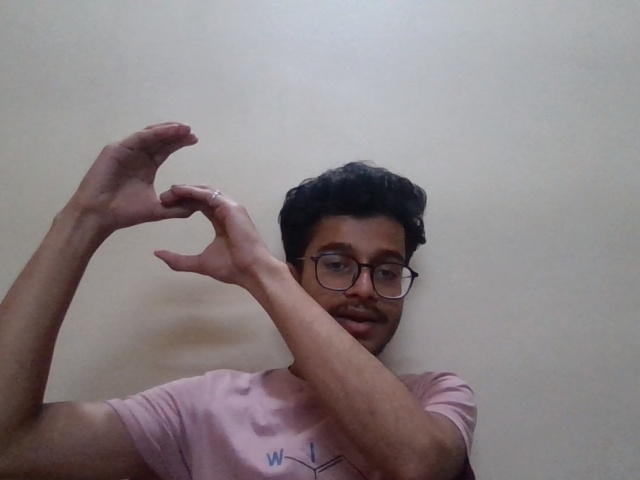S: (60, 112, 294, 294)
